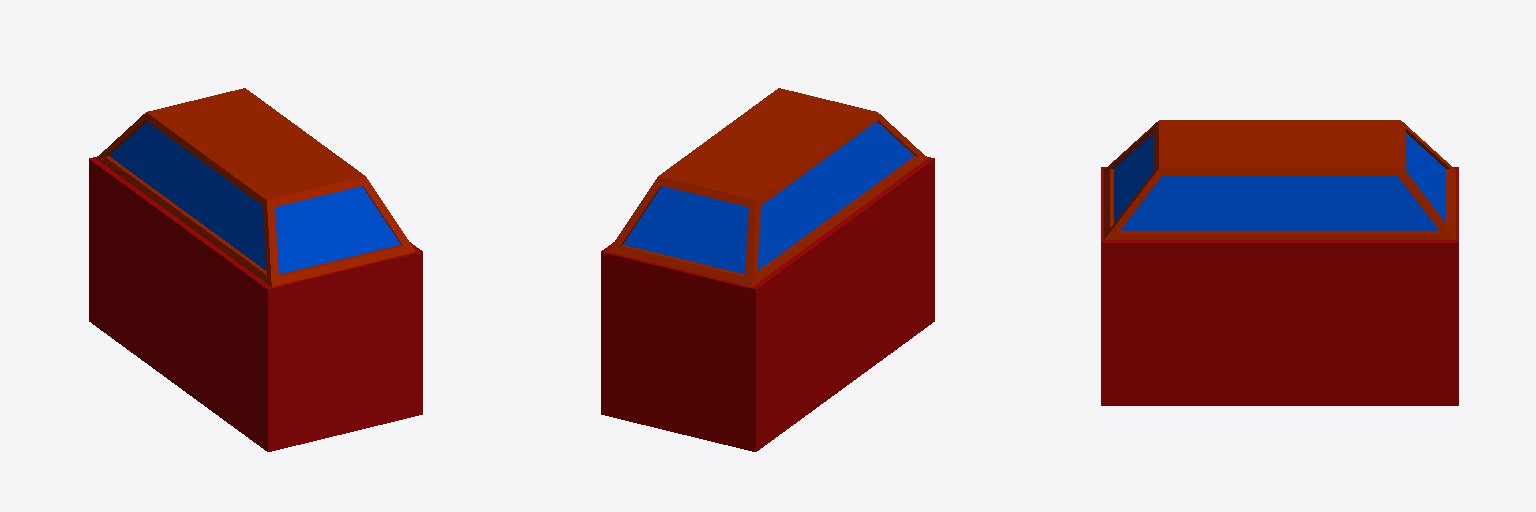
The model's file is Cockpit.obj.
3 views of the same model, side by side, from view 1: azimuth 30°, elevation 25°; view 2: azimuth 150°, elevation 25°; view 3: azimuth 270°, elevation 25° (orthographic).
Visible parts, largest first — view 1: Cockpit_Outside_Cube, Canopy__Outside_Cube.001; view 2: Cockpit_Outside_Cube, Canopy__Outside_Cube.001; view 3: Cockpit_Outside_Cube, Canopy__Outside_Cube.001.
Part boxes in pixels (x1,y1,x2,y2): Cockpit_Outside_Cube: (89,156,422,451); Canopy__Outside_Cube.001: (96,88,415,286); Cockpit_Outside_Cube: (601,156,934,451); Canopy__Outside_Cube.001: (608,88,927,286); Cockpit_Outside_Cube: (1101,167,1458,405); Canopy__Outside_Cube.001: (1104,120,1455,239).
Size of the model in its own units: 1 by 1.38 by 2.